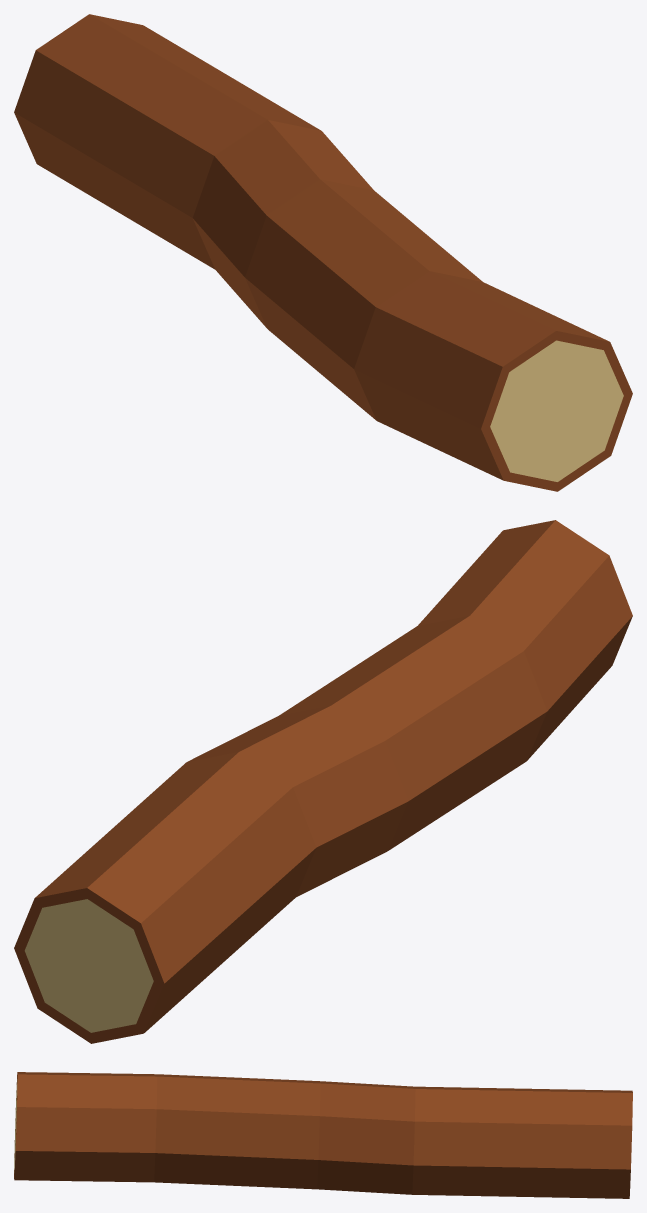
File: Log6.fbx
3 views of the same model, one above another, from view 1: azimuth 30°, elevation 25°; view 2: azimuth 150°, elevation 25°; view 3: azimuth 270°, elevation 25° (orthographic). The views are drawn at different scales.
Parts seen in each view (by area): view 1: Log_6; view 2: Log_6; view 3: Log_6.
Boxes of the visible parts, bbox=[...] form: Log_6: bbox=[14, 14, 632, 491]; Log_6: bbox=[14, 520, 632, 1043]; Log_6: bbox=[14, 1072, 632, 1198].
Size of the model in its own units: 247 by 234 by 1078.
